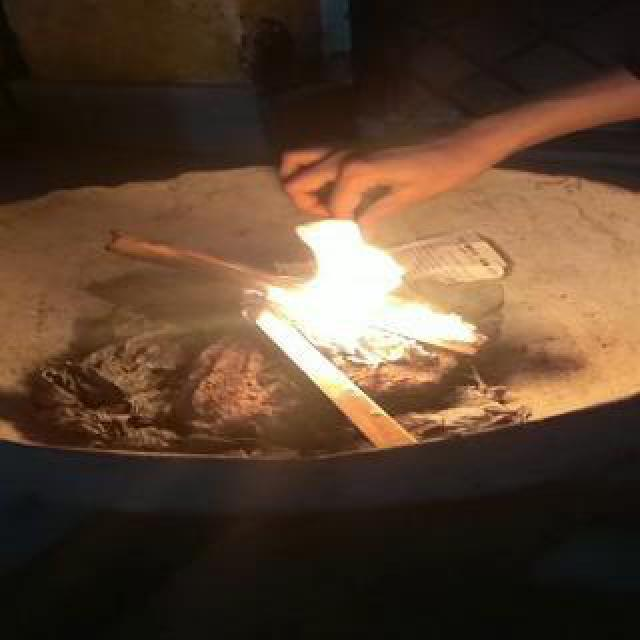Fire: (230, 212, 476, 384)
